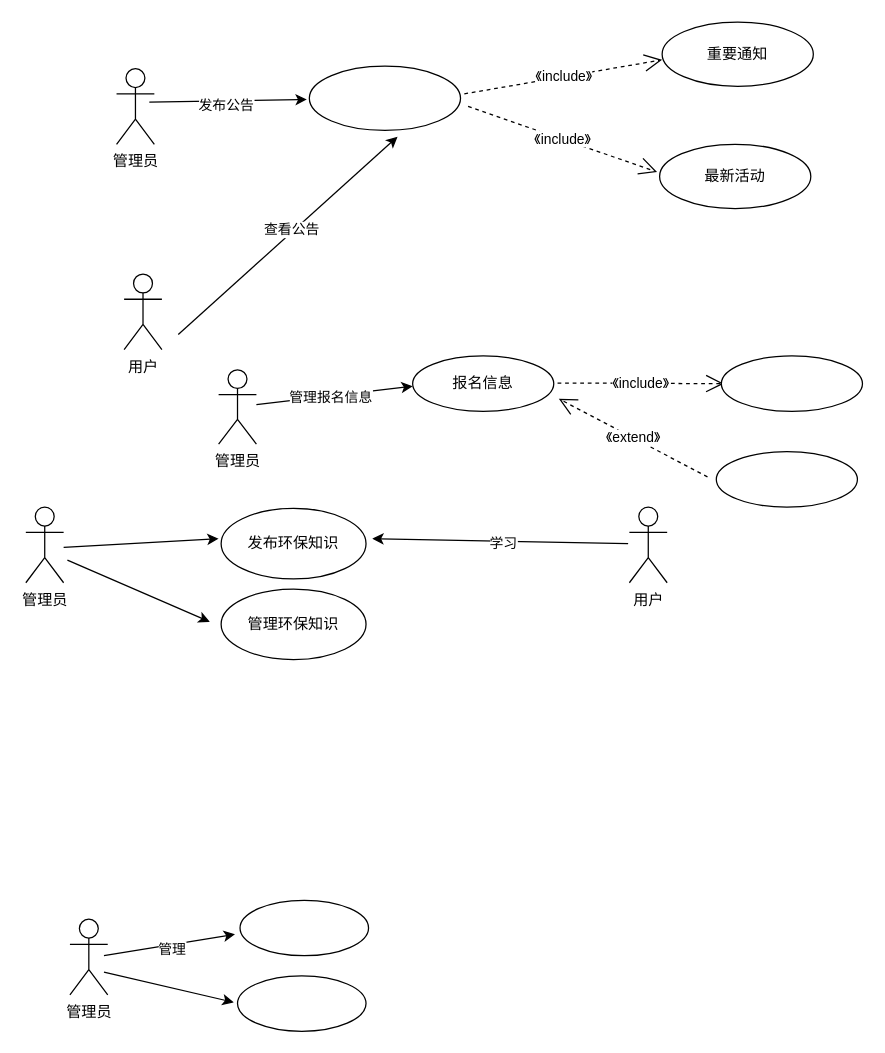
This 885x1053 diagram has some shape labels left out. The centre of each missing label's shape, as x and y in pixels:
"审核报名信息" goes at pixel 791 383.
"导出报名信息" goes at pixel 786 478.
"数据备份" goes at pixel 301 1003.
"用户权限" goes at pixel 304 927.
"系统公告" goes at pixel 384 97.
